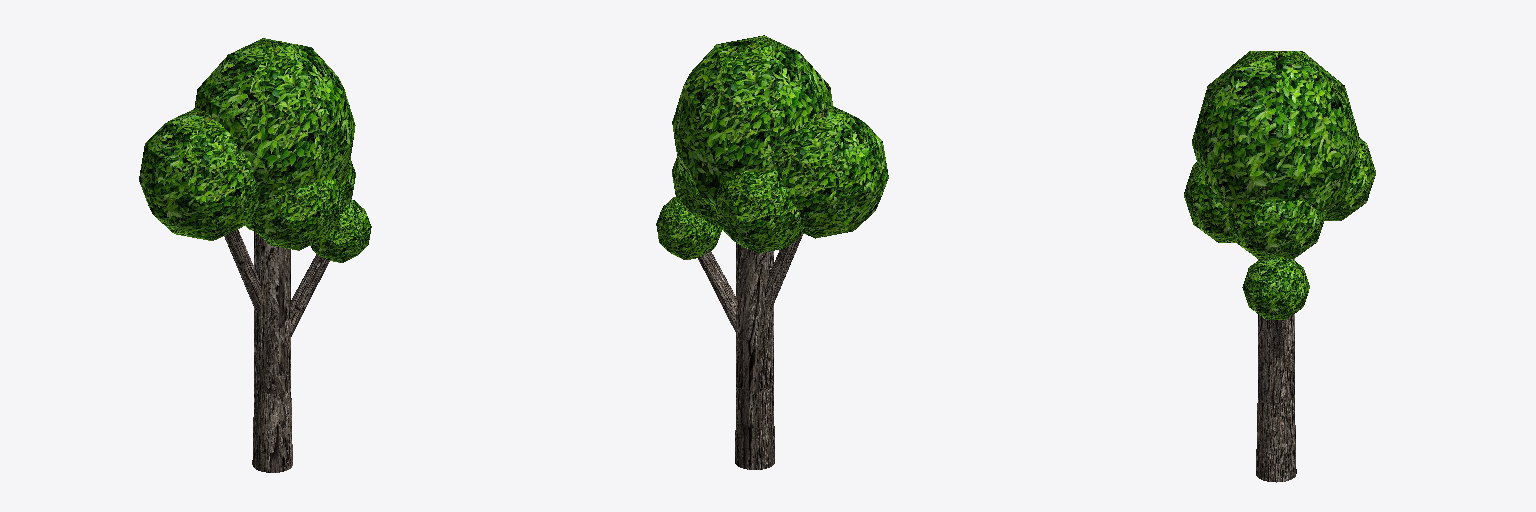
3 views of the same model, side by side, from view 1: azimuth 30°, elevation 25°; view 2: azimuth 150°, elevation 25°; view 3: azimuth 270°, elevation 25° (orthographic).
Parts seen in each view (by area): view 1: Icosphere.007, Cylinder.002; view 2: Icosphere.007, Cylinder.002; view 3: Icosphere.007, Cylinder.002.
Part boxes in pixels (x1,y1,x2,y2): Icosphere.007: (139, 38, 371, 262); Cylinder.002: (224, 230, 329, 472); Icosphere.007: (656, 35, 888, 259); Cylinder.002: (698, 233, 803, 469); Icosphere.007: (1184, 51, 1375, 319); Cylinder.002: (1256, 259, 1296, 482).
Size of the model in its own units: 1.48 by 2.74 by 1.14.
2 materials, 2 textured.